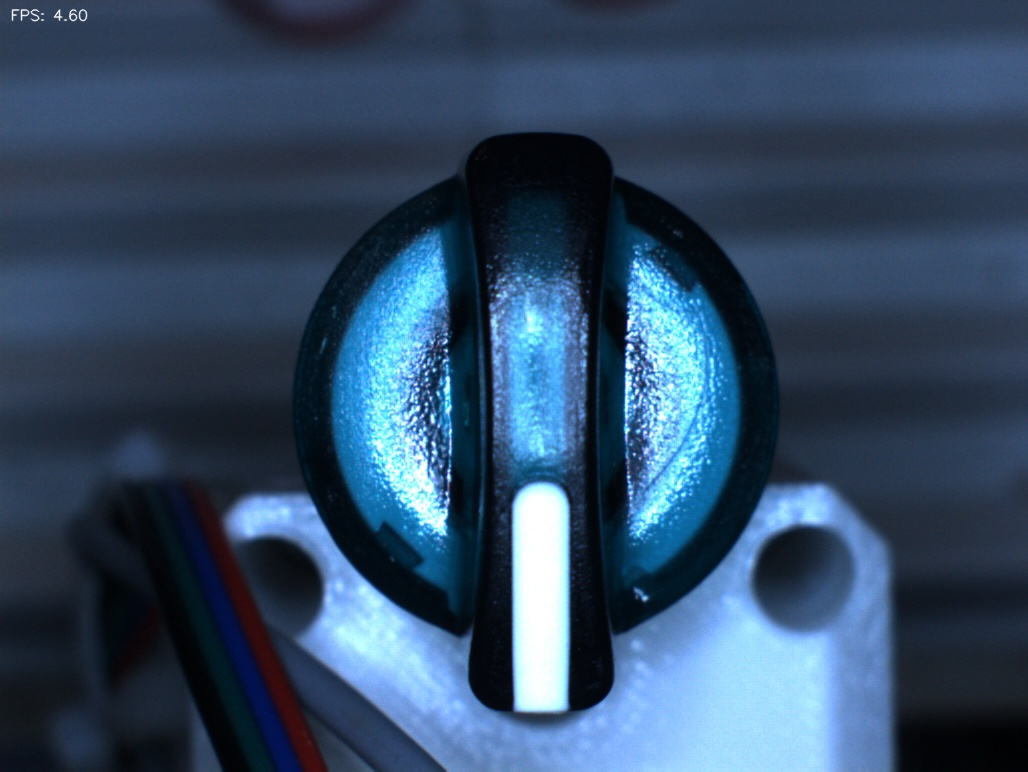Choc: (612, 560, 672, 620)
